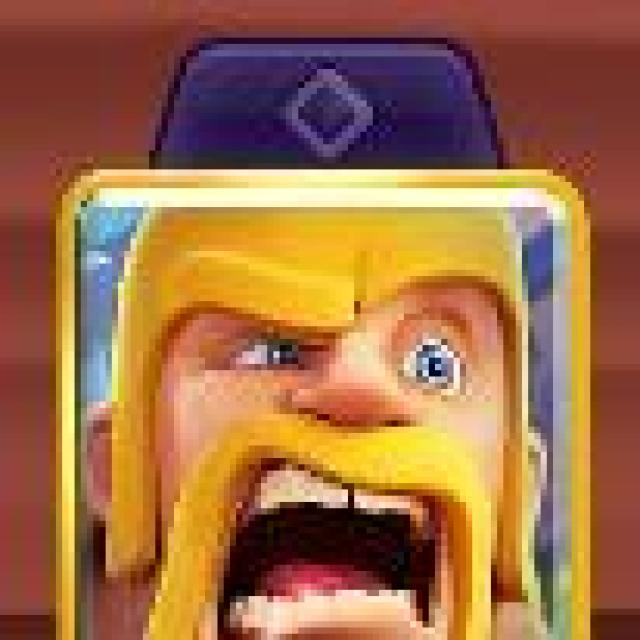Barbarians: (52, 168, 592, 640)
